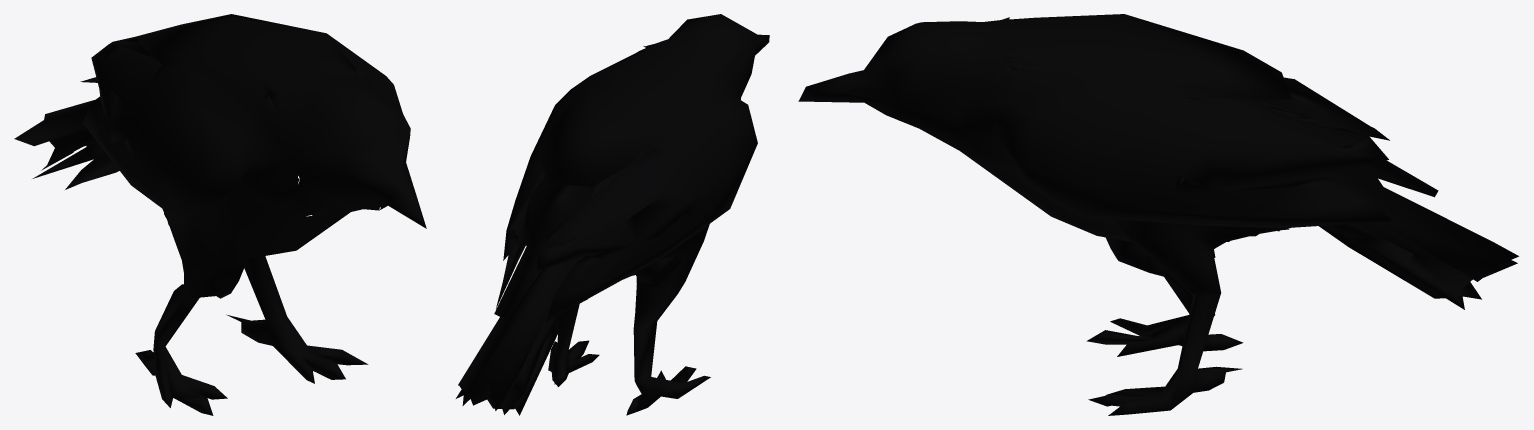
File: crow_ground.glb
3 views of the same model, side by side, from view 1: azimuth 30°, elevation 25°; view 2: azimuth 150°, elevation 25°; view 3: azimuth 270°, elevation 25° (orthographic). The views are drawn at different scales.
Parts seen in each view (by area): view 1: lod0; view 2: lod0; view 3: lod0.
Part boxes in pixels (left/top/right/bottom): lod0: left=14, top=14, right=426, bottom=415; lod0: left=456, top=14, right=769, bottom=415; lod0: left=798, top=14, right=1518, bottom=415.
Size of what is drawn, in the model's own units: 0.1481 by 0.2371 by 0.4403.
Materials: 1 (1 with a texture image).
